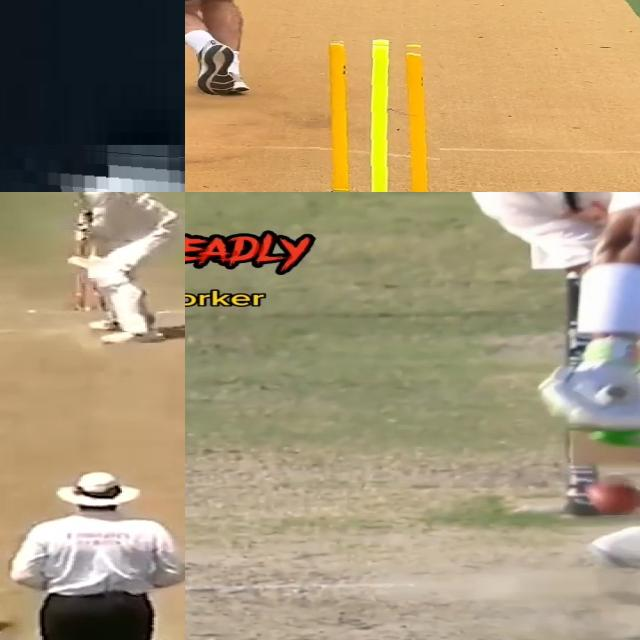Cricket ball: (13, 144, 185, 192), (580, 477, 640, 515)
Stumps: (308, 38, 440, 192)
